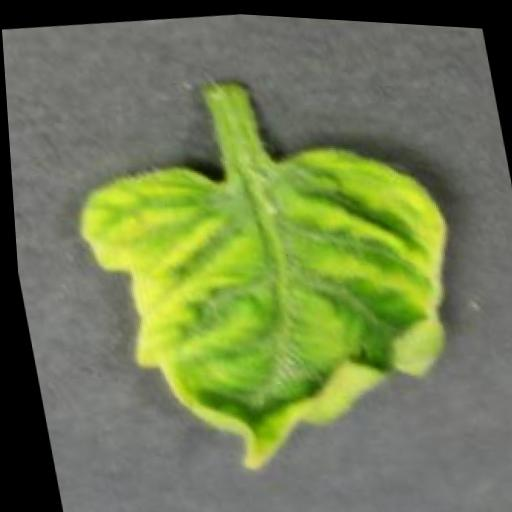Yellow Leaf Curl Virus: (67, 119, 489, 495)
